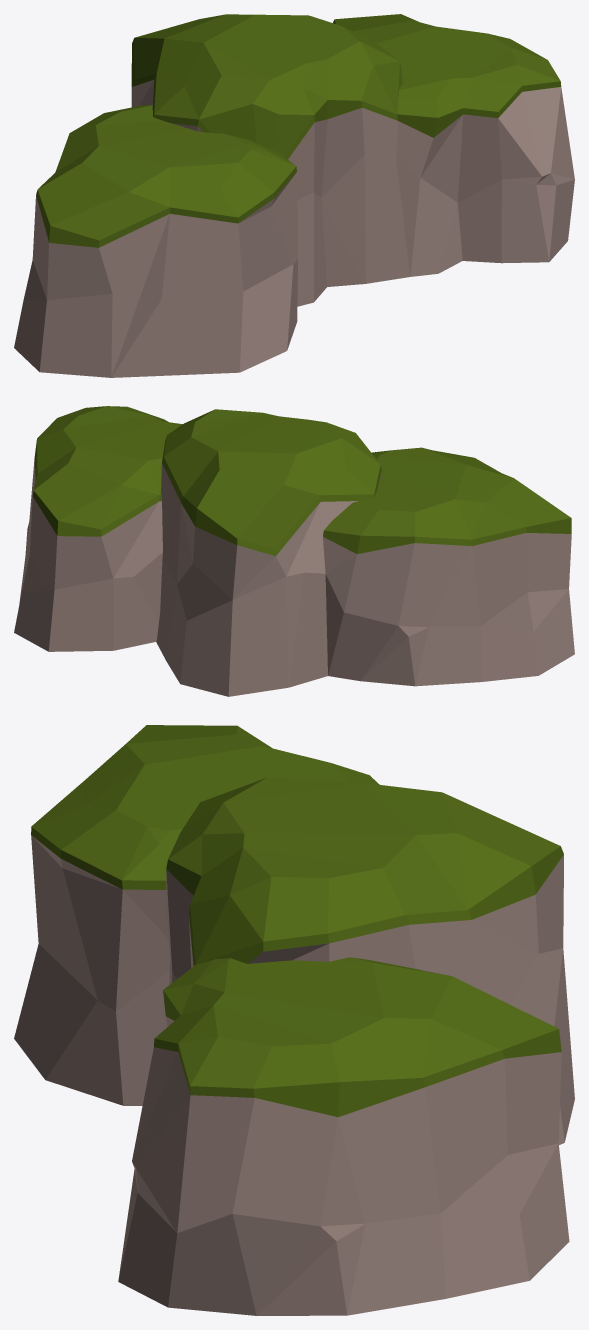
File: Rock_7.fbx
3 views of the same model, one above another, from view 1: azimuth 30°, elevation 25°; view 2: azimuth 150°, elevation 25°; view 3: azimuth 270°, elevation 25° (orthographic). The views are drawn at different scales.
Visible parts, largest first — view 1: Rock_7; view 2: Rock_7; view 3: Rock_7.
Part boxes in pixels (<box>): Rock_7: <box>14,14,574,377</box>; Rock_7: <box>14,406,574,696</box>; Rock_7: <box>14,725,574,1315</box>.
Size of the model in its own units: 13.58 by 5.22 by 8.3.
